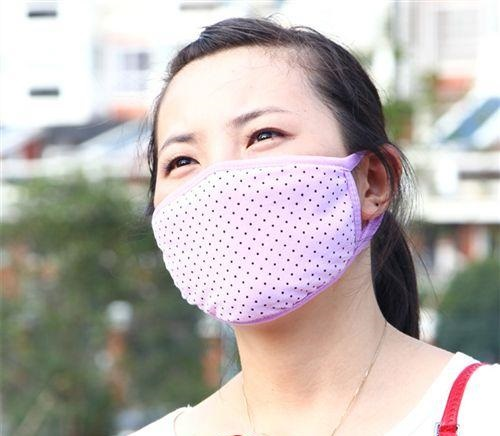face_mask: (154, 62, 346, 304)
